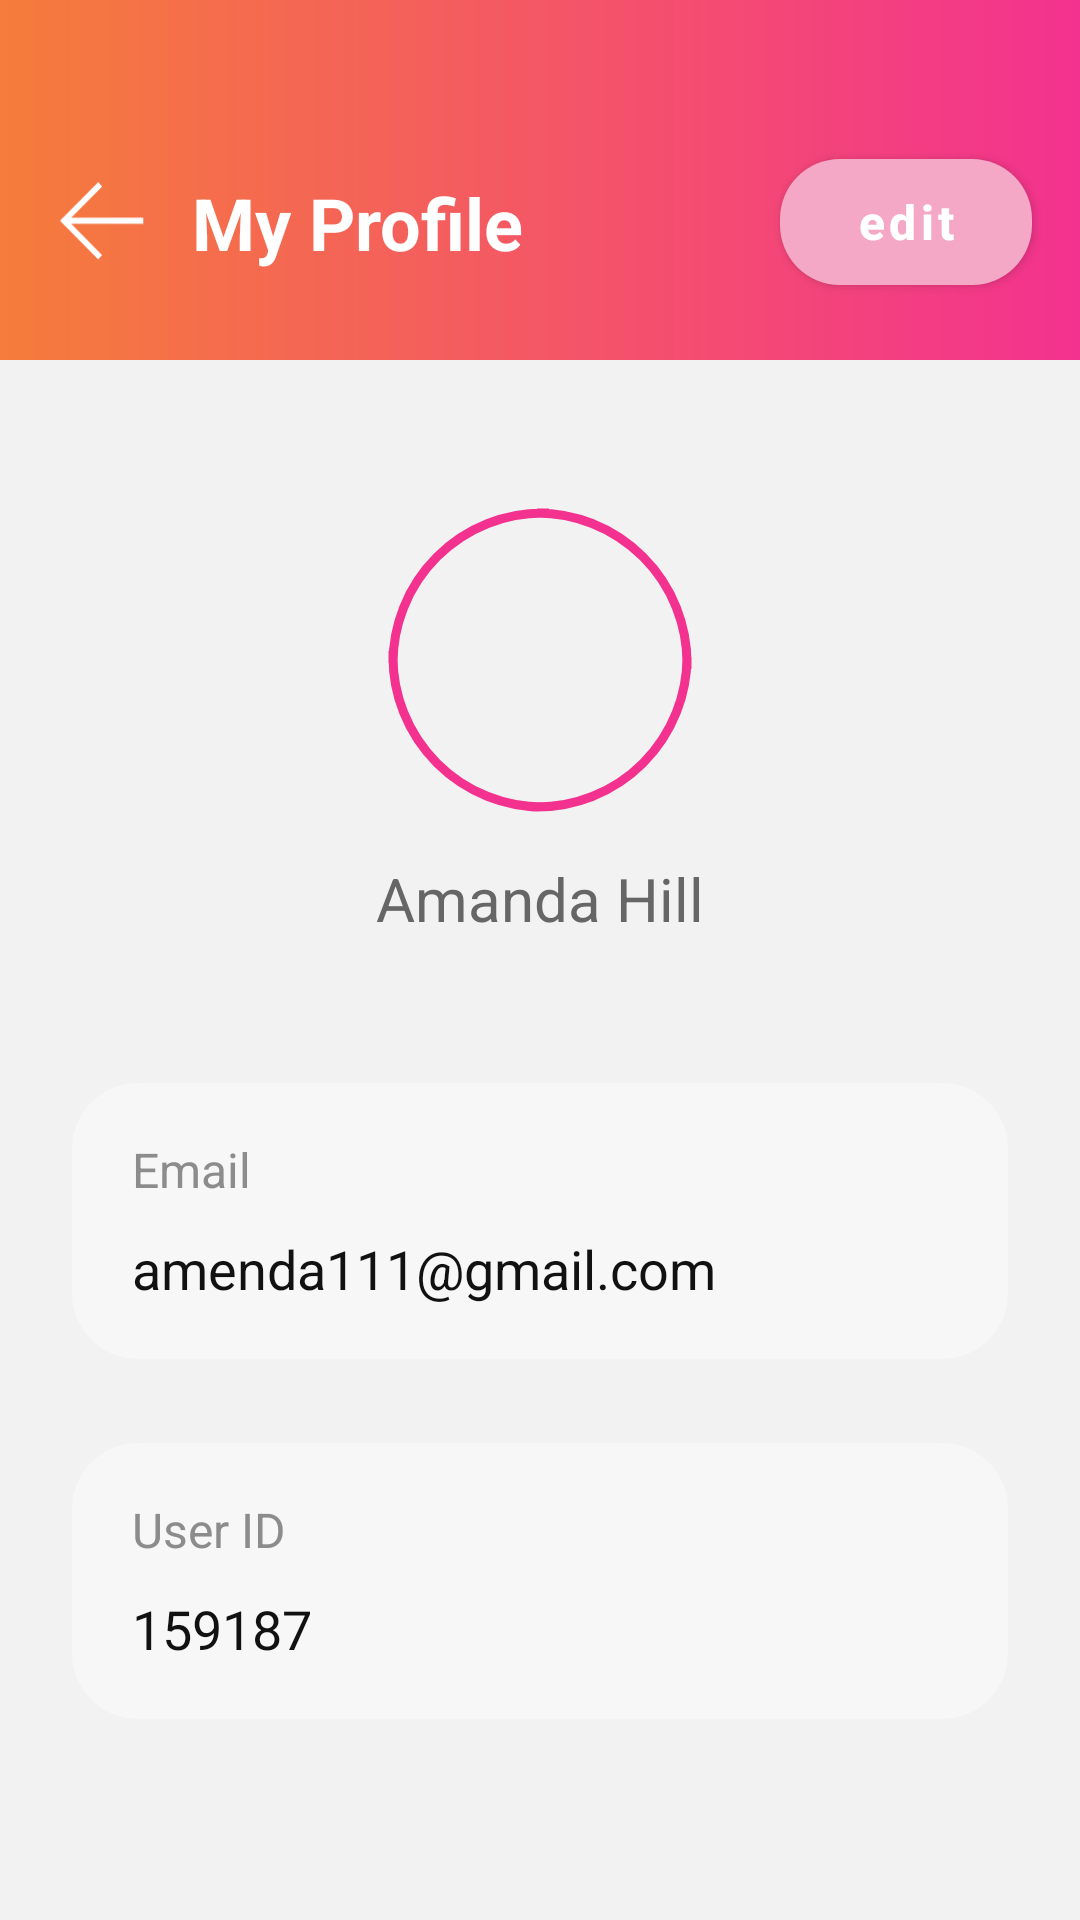

Icons on this 1080 × 1920 Android screen, each with the point to tap as point (x, y):
arrow back: point (102, 221)
